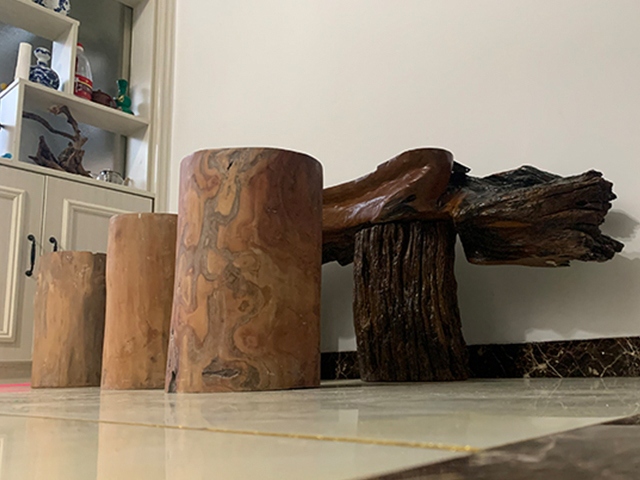cabinet: (1, 161, 169, 384)
stool: (166, 147, 323, 393), (101, 212, 176, 390), (29, 249, 106, 387)
